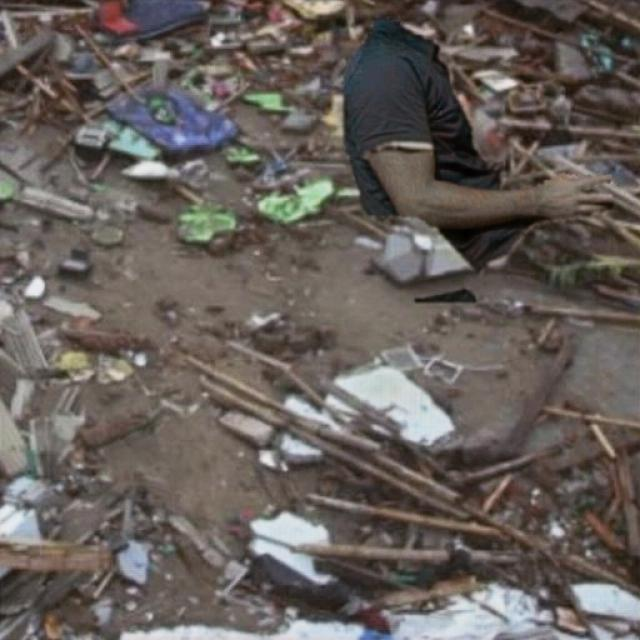Person in Rubble: (344, 17, 612, 302)
